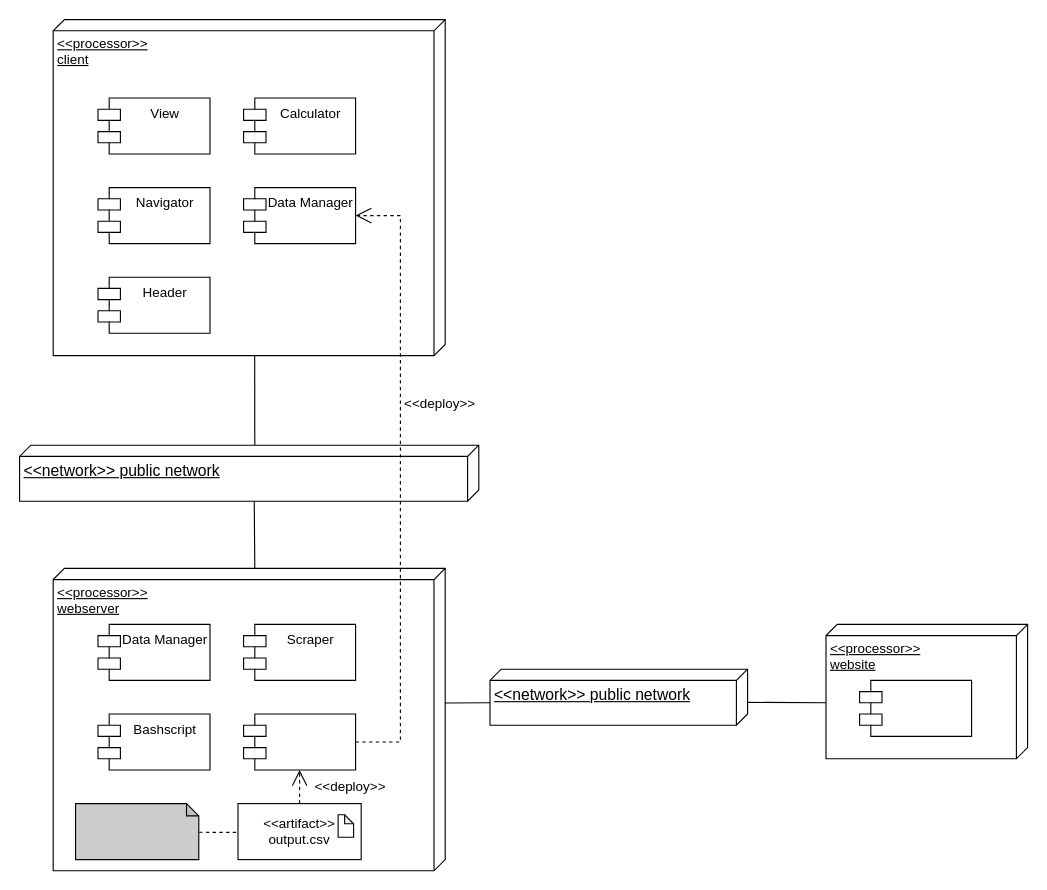
Image size: 1047x890. Some labels were removed from this diagram. Each missing label, with the centre of its shape:
CSV-Datei mit Wechselkursen: the point at 136,831
Information: the point at 915,707
Provisioning: the point at 299,741
